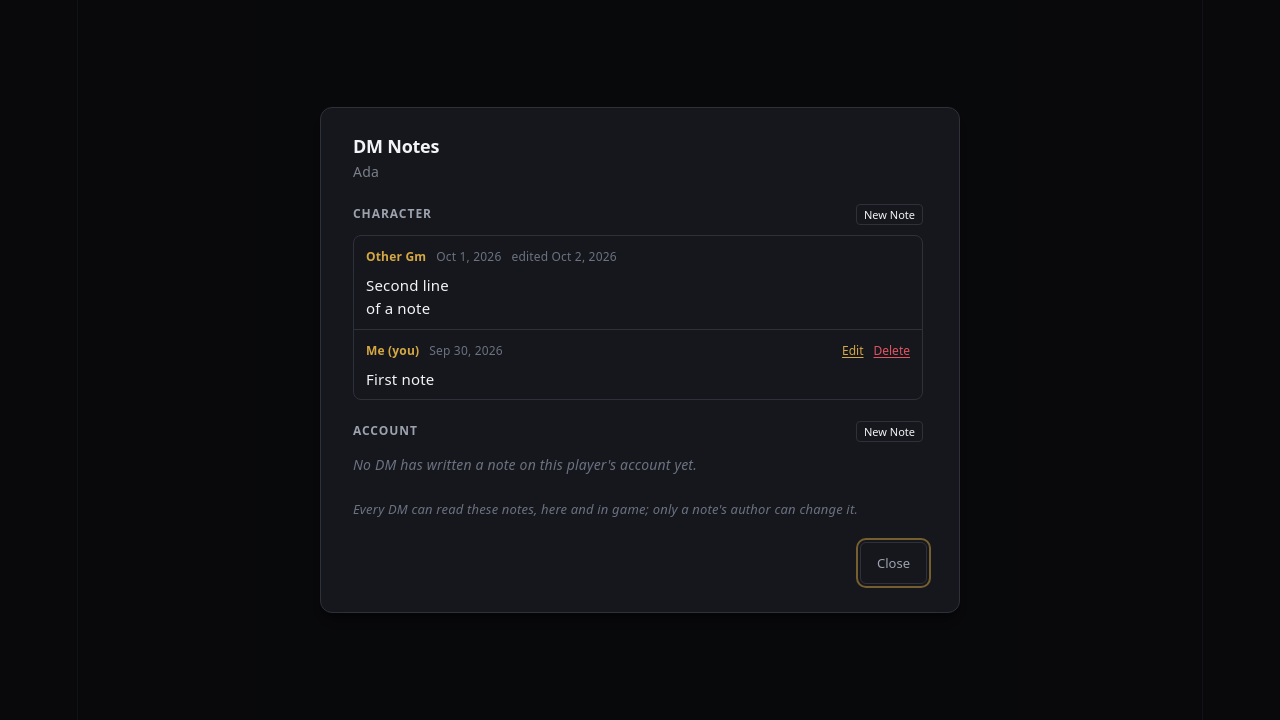
Test case: NotesModal › shows why a save was refused
The width and height of the screenshot is (1280, 720).
expect the text "First note" is shown: met, box [366, 369, 434, 389]
Click the button with aria-label "Edit this note" at (853, 351), box [842, 338, 864, 364]
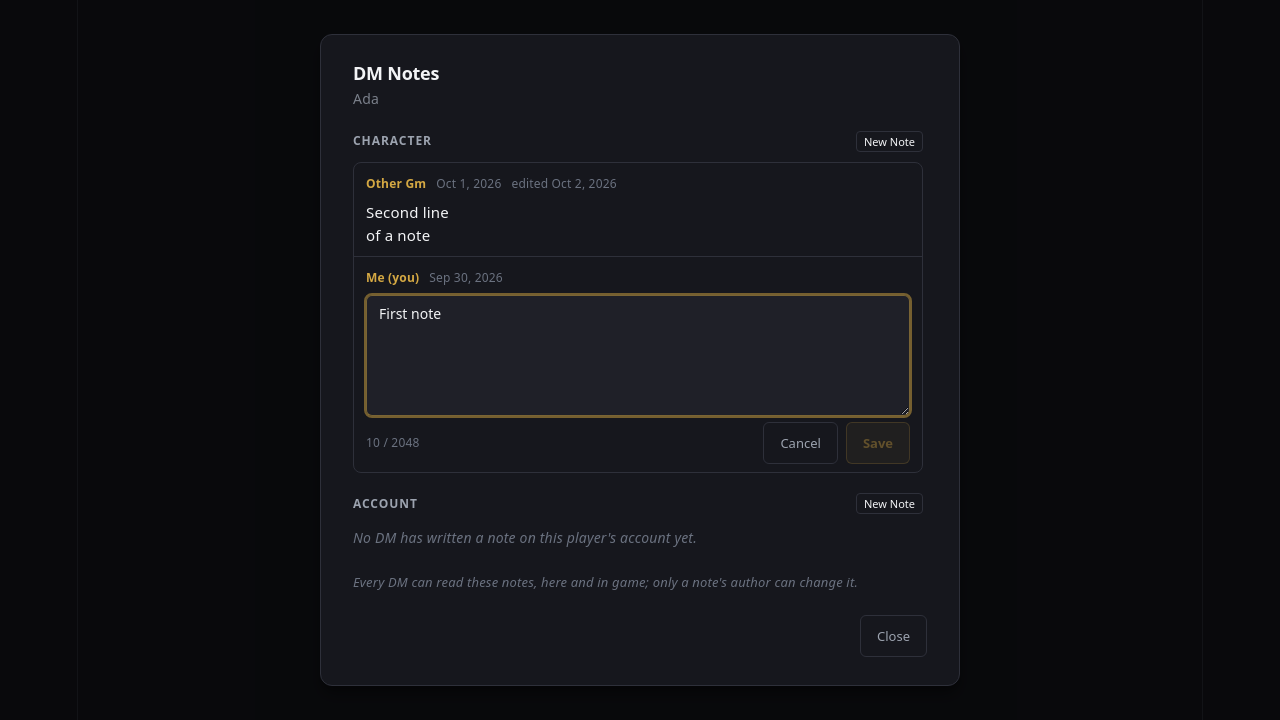
Type "!" into the text box at (638, 355), box [366, 295, 910, 416]
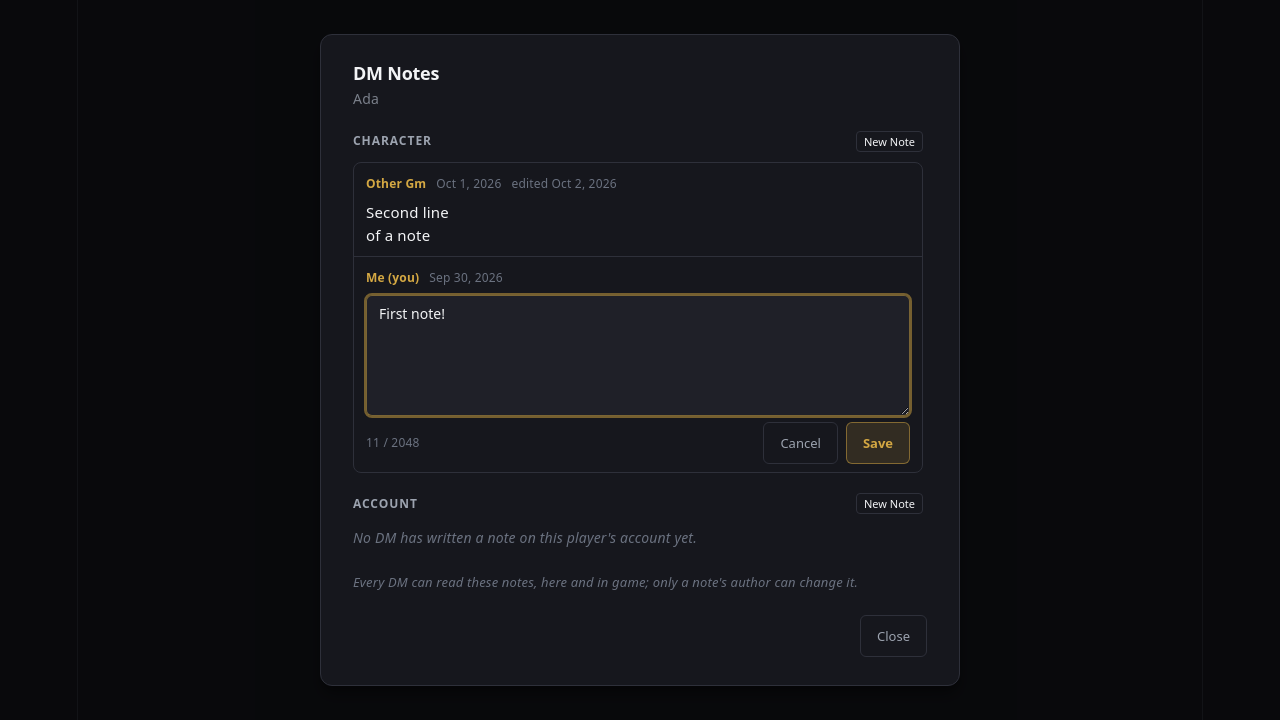
Click the button "Save" at (878, 443), box [846, 422, 910, 464]
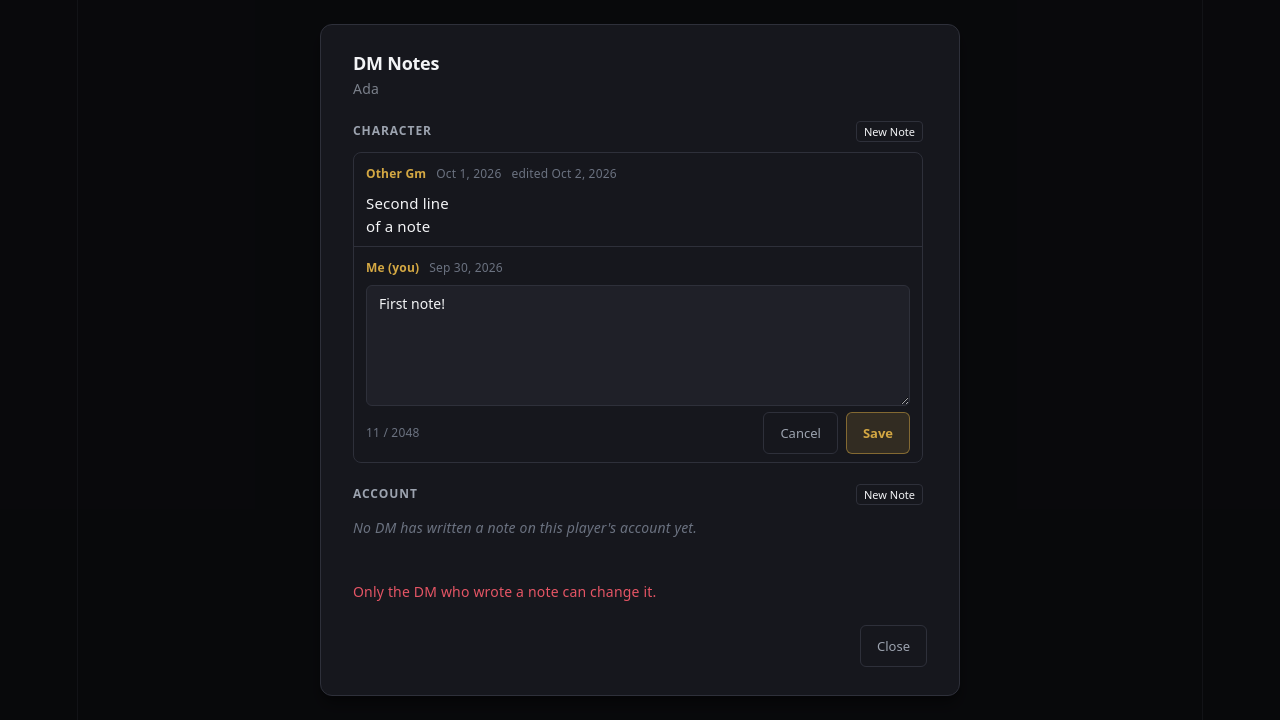
expect the message reads "Only the DM who wrote a note can change it.": met, box [353, 582, 656, 601]
